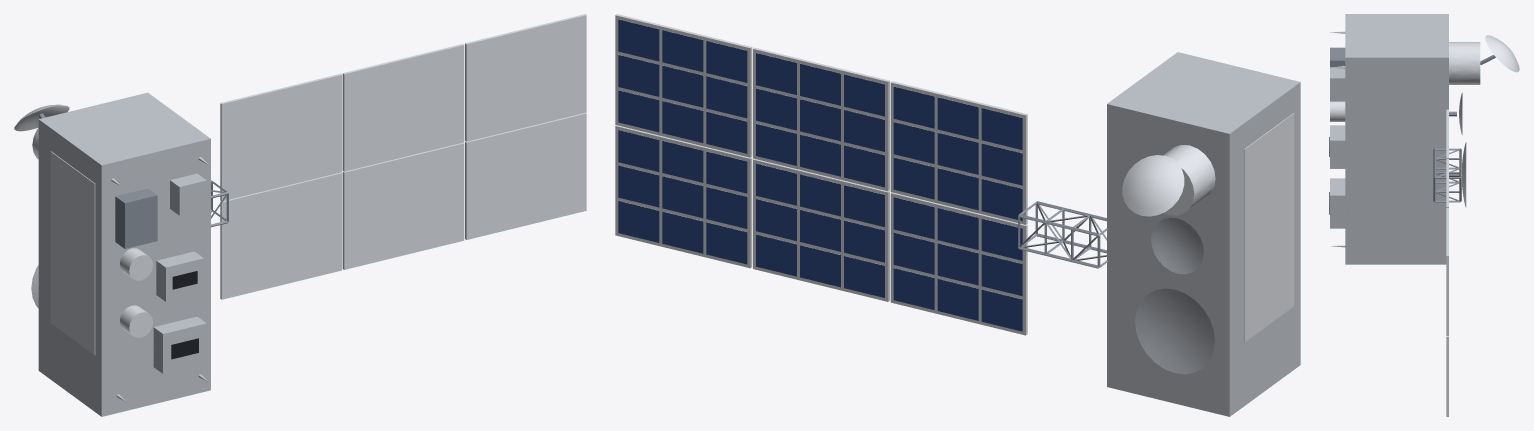
The model's file is fengyun-3.glb.
3 views of the same model, side by side, from view 1: azimuth 30°, elevation 25°; view 2: azimuth 150°, elevation 25°; view 3: azimuth 270°, elevation 25° (orthographic). The views are drawn at different scales.
Visible parts, largest first — view 1: body, foil; view 2: solar-panel, body, foil; view 3: foil, body.
Boxes of the visible parts, x1=… form: body: x1=14, y1=14, x2=586, y2=402; foil: x1=38, y1=92, x2=210, y2=416; solar-panel: x1=618, y1=19, x2=1022, y2=331; body: x1=615, y1=14, x2=1294, y2=374; foil: x1=1107, y1=52, x2=1300, y2=416; foil: x1=1345, y1=14, x2=1448, y2=264; body: x1=1329, y1=31, x2=1519, y2=416.
Size of the model in its own units: 10.01 by 4.4 by 3.67.
